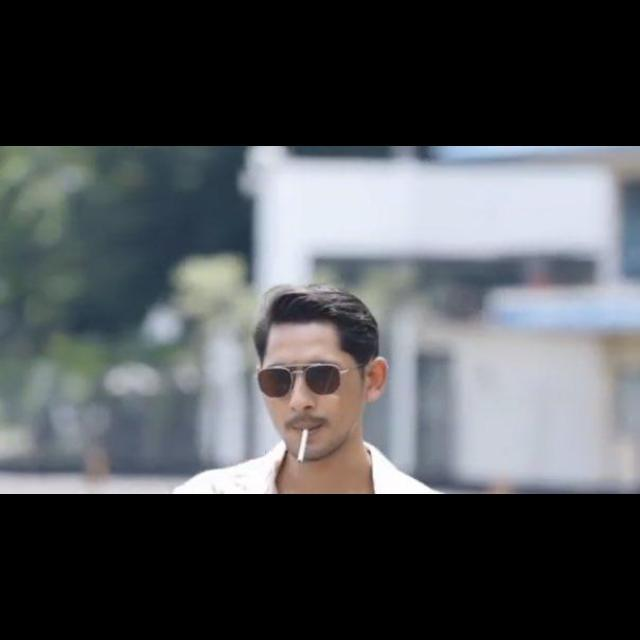rokok: (296, 426, 308, 466)
